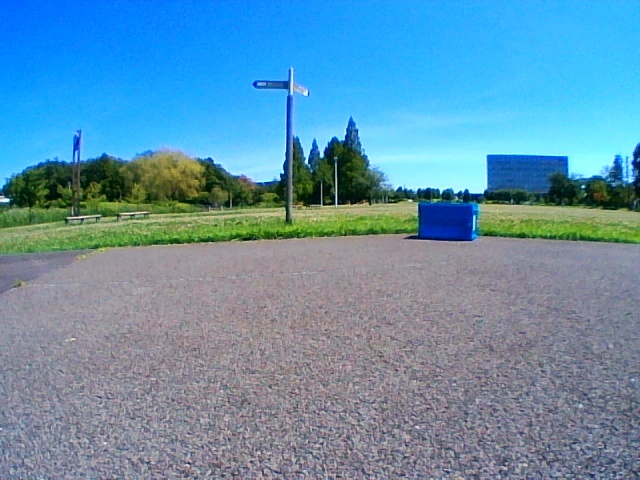blue_box: (419, 203, 475, 242)
tag: (472, 214, 475, 231)
